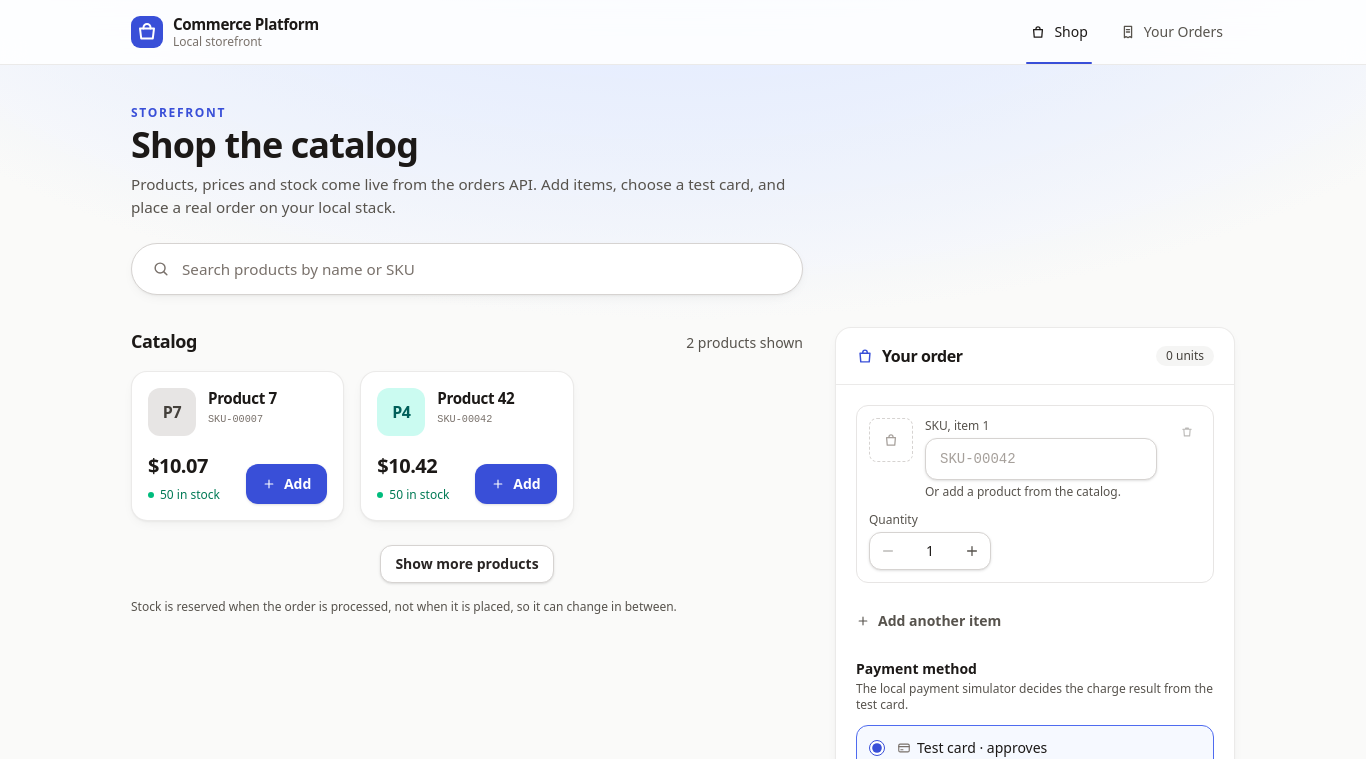
Scenario: catalog › adds products to the order from real catalog data, and pages with the cursor
Expected: the list item "Product 42" shows "$10.42", [377,452,437,479]
Expected: the list item "Product 42" shows "50 in stock", [389,486,449,503]
Click the button with aria-label "Add Product 42 (SKU-00042)": (516, 484) [475,464,557,504]
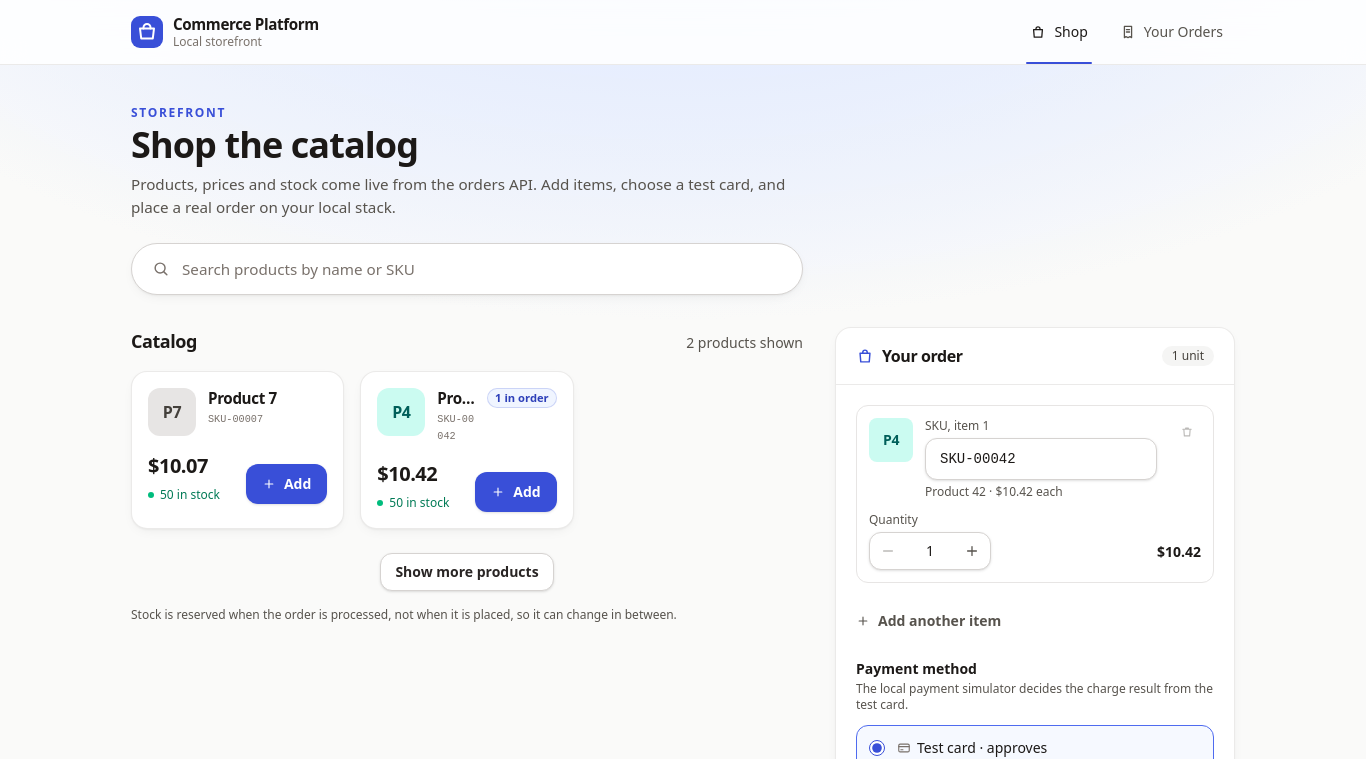
Result: the field labelled "SKU, item 1" holds "SKU-00042" at [925,438,1157,480]
Click the button with aria-label "Add Product 42 (SKU-00042)": (516, 492) [475,472,557,512]
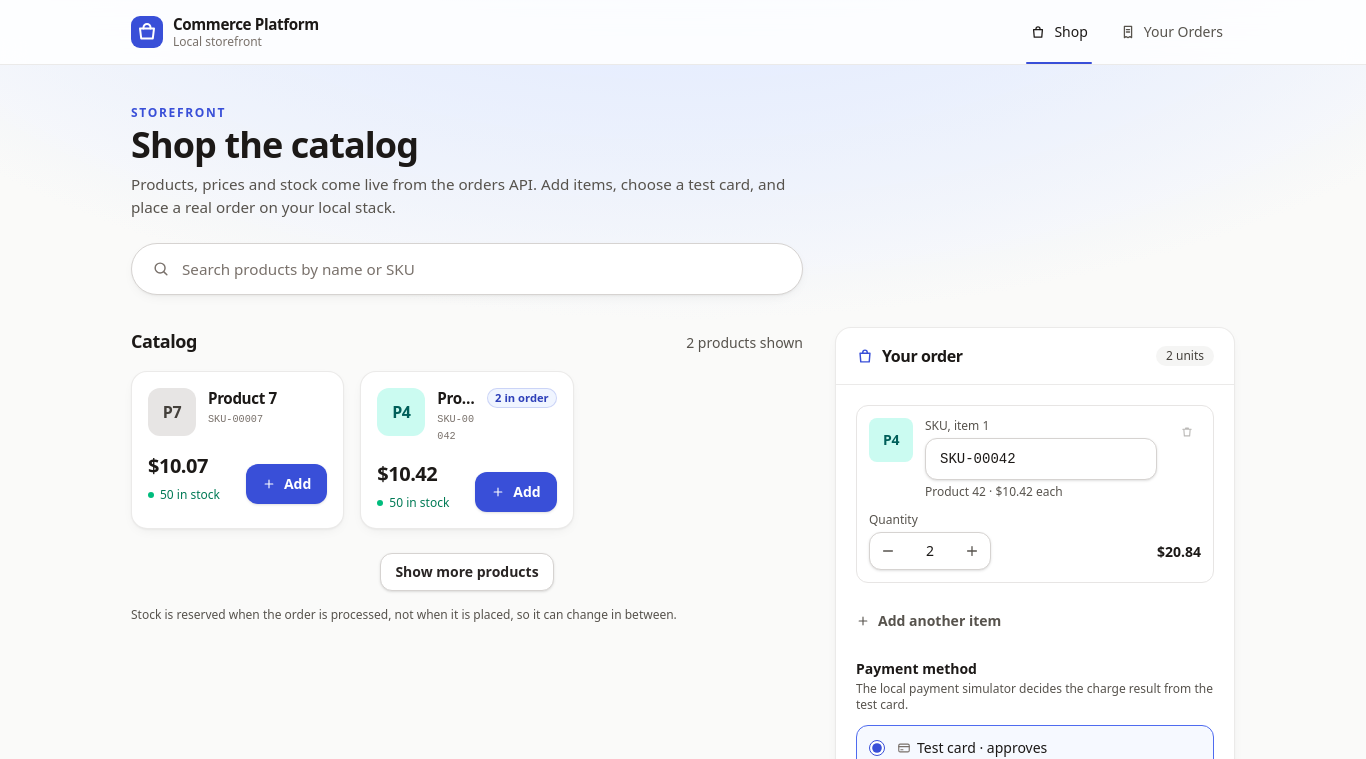
Result: the number field labelled "Quantity" holds "2" at [906,533,954,569]
Click the button with aria-label "Add Product 7 (SKU-00007)": (287, 484) [246,464,327,504]
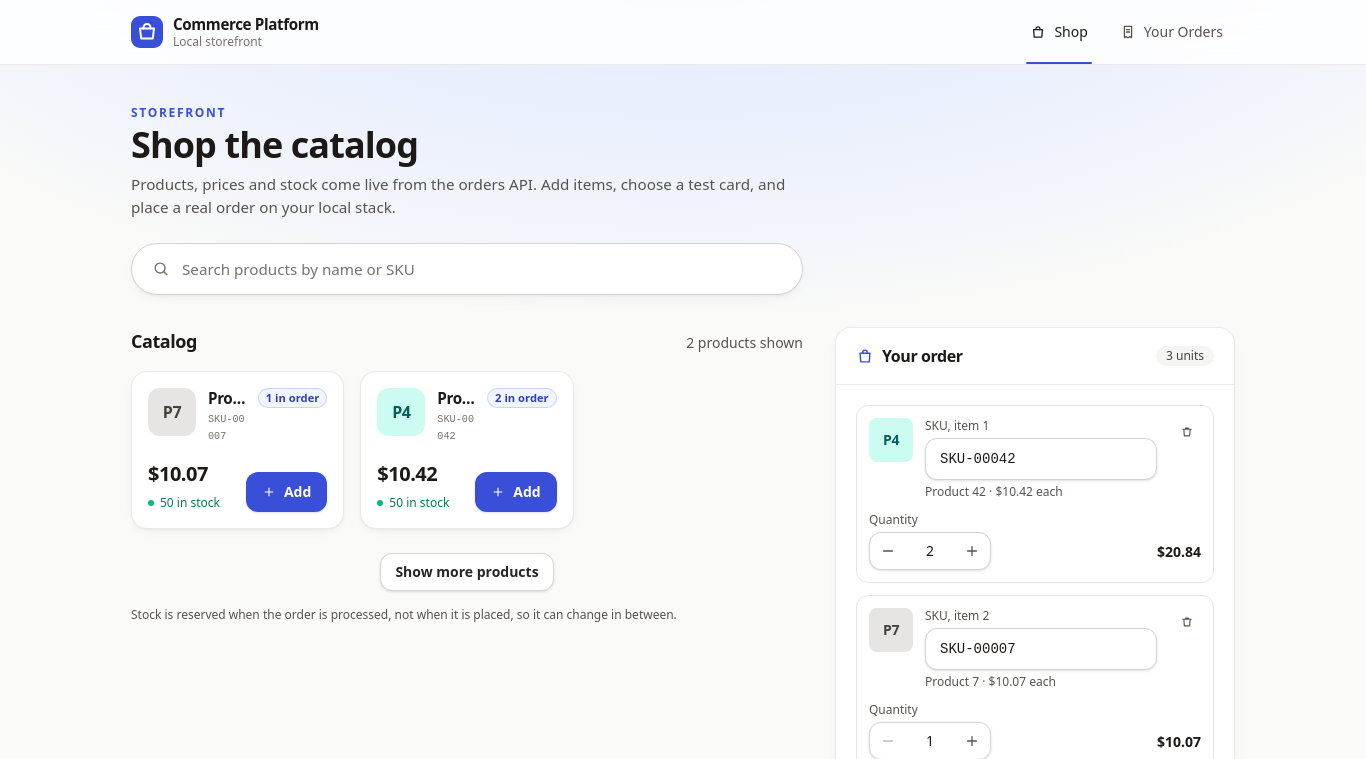
Result: the field labelled "SKU, item 2" holds "SKU-00007" at [925,628,1157,670]
Click the button named "Remove item 2": (1187, 622) [1169,604,1205,640]
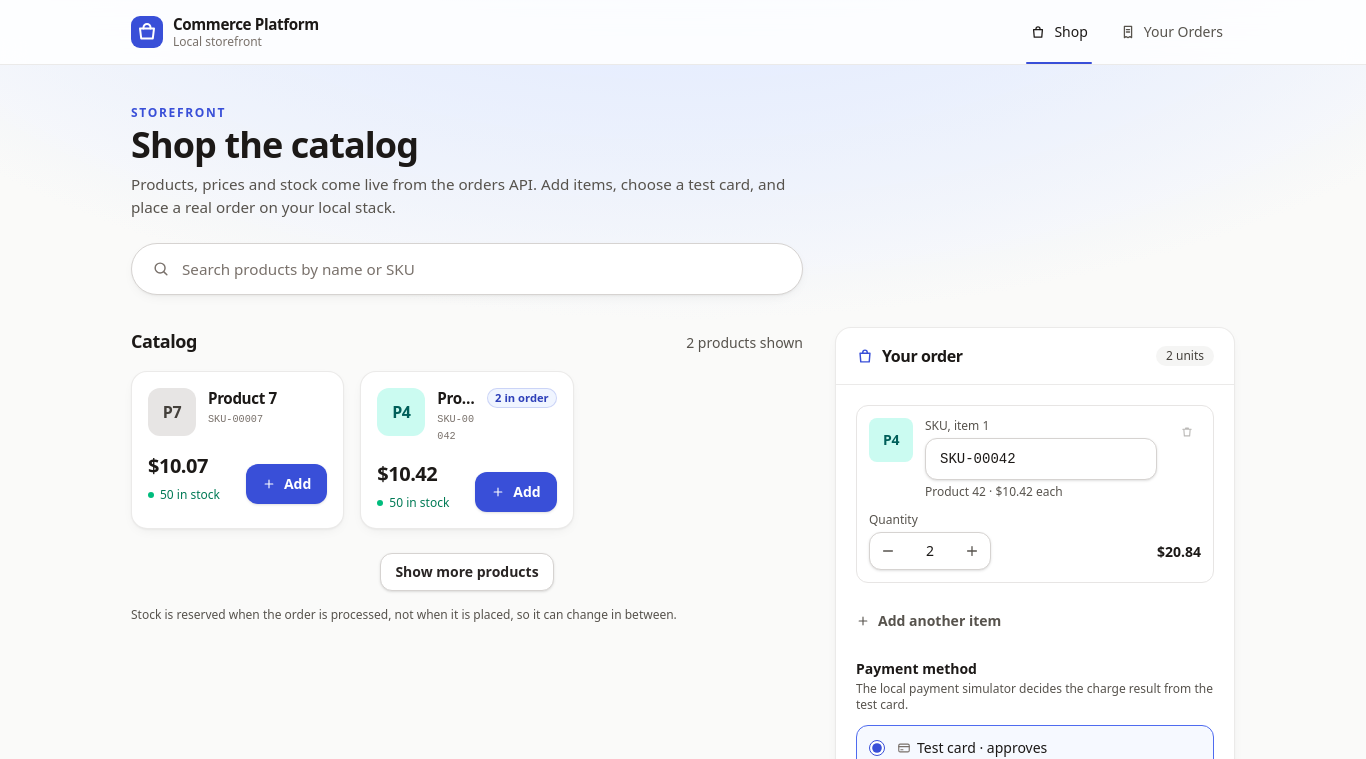
Result: the label labelled "SKU, item 2" is gone
Click the button "Show more products": (467, 572) [380,553,554,591]
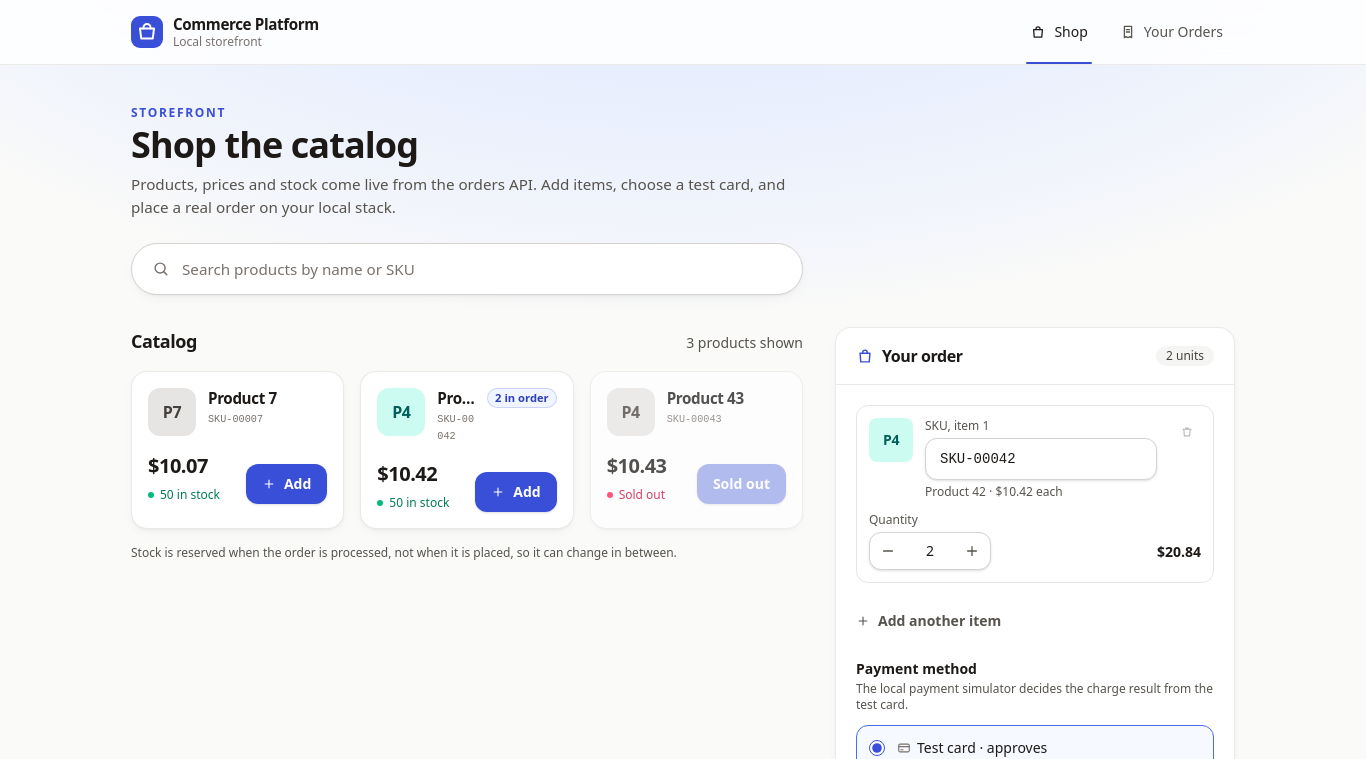
Result: the text "Product 43" is shown at [667,388,744,408]
